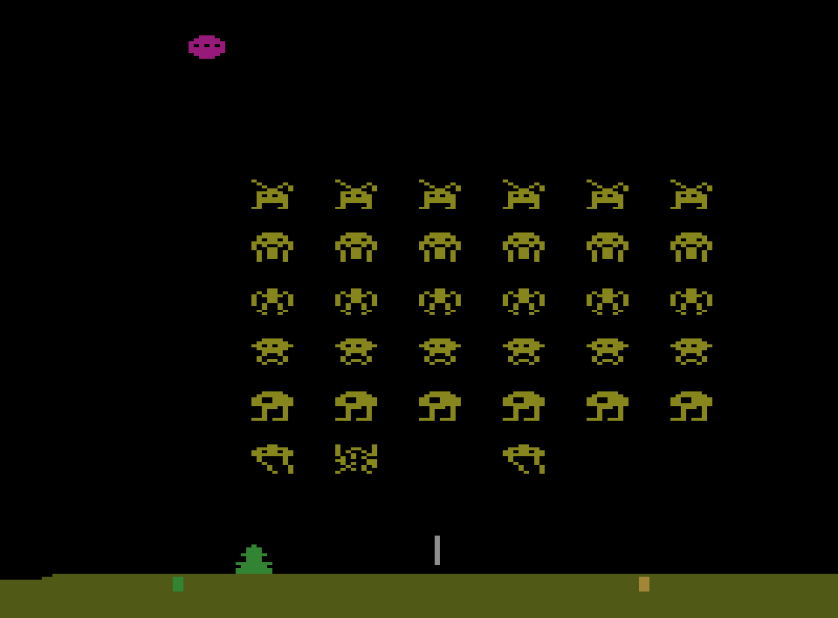bonus: (188, 34, 227, 61)
bullet: (433, 534, 442, 565)
invader1: (585, 177, 631, 210), (251, 176, 295, 210), (419, 177, 463, 211), (334, 177, 379, 210), (502, 177, 547, 210), (669, 177, 714, 210)
invader2: (334, 229, 379, 264), (670, 229, 714, 264), (418, 230, 463, 264), (585, 231, 631, 263), (251, 230, 294, 264), (502, 230, 546, 263)
invader3: (669, 285, 716, 317), (417, 285, 463, 317), (585, 286, 631, 317), (250, 286, 296, 316), (333, 286, 379, 316), (501, 287, 547, 317)
invader4: (500, 335, 547, 367), (419, 335, 464, 368), (334, 336, 379, 368), (249, 337, 296, 367), (671, 336, 714, 367), (587, 336, 631, 366)
invader5: (417, 388, 464, 422), (585, 389, 630, 423), (669, 388, 714, 422), (250, 390, 294, 424), (502, 389, 546, 423), (334, 389, 379, 422)
invader6: (249, 442, 296, 477), (500, 442, 547, 477), (334, 441, 380, 476)
player: (234, 542, 275, 575)
